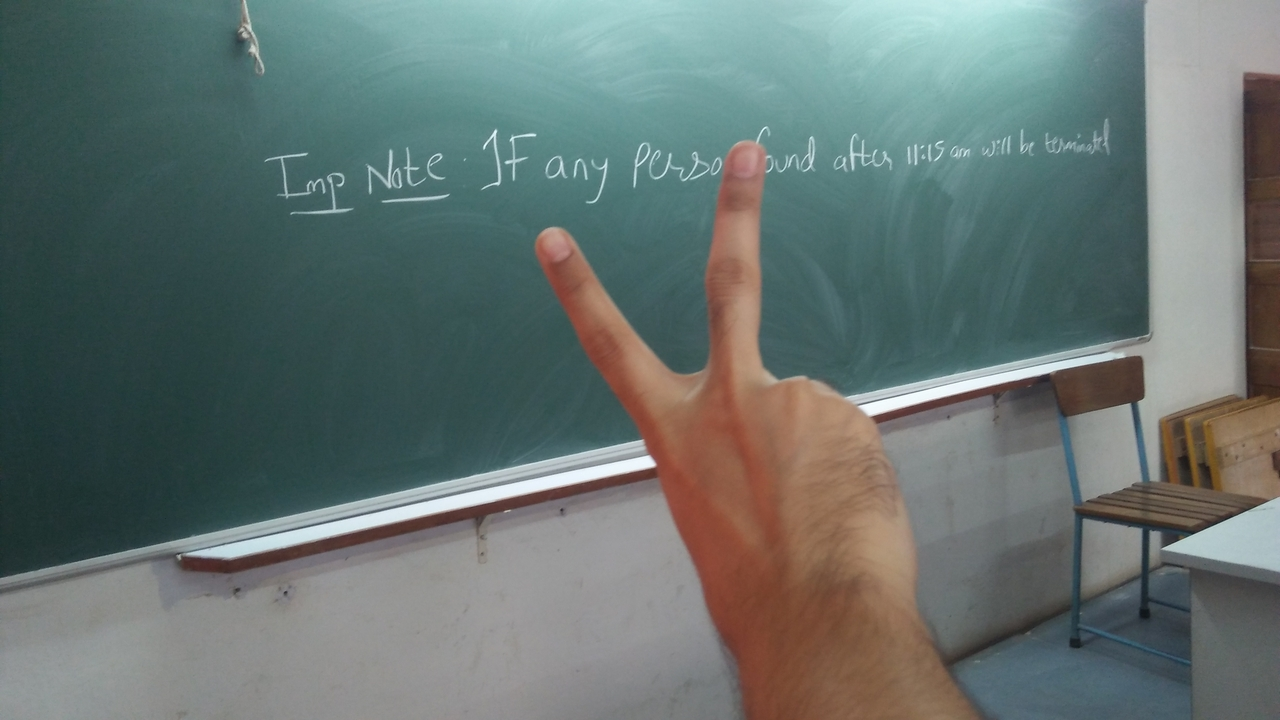fingertip: (526, 216, 584, 276), (714, 130, 772, 186)
